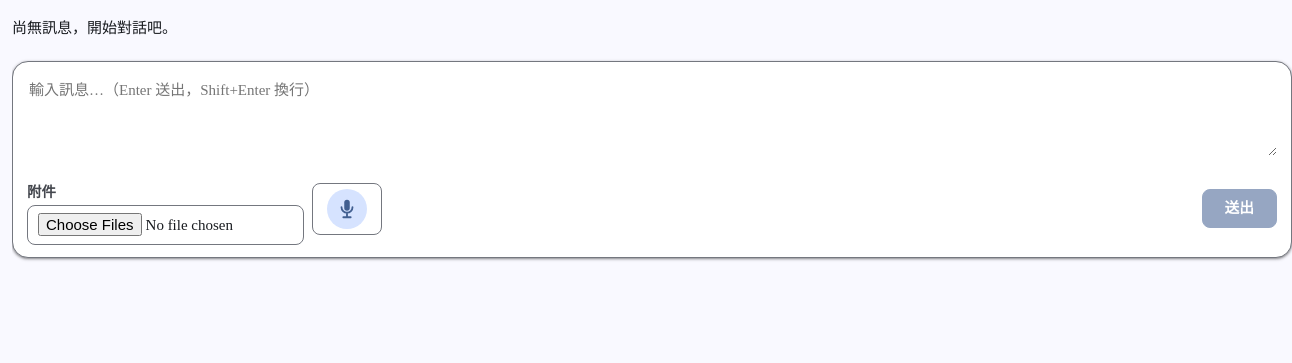
Test: MessageThread (E03-S009) › shows a failed message with a retry action when sending fails, and keeps the content visible
This screenshot has width=1292, height=363.
Expected: the text "尚無訊息，開始對話吧。" is shown, [12,20,177,36]
Type "你好" into the text box labelled "訊息".
click(652, 115); type("你好")  # box [27,74,1277,156]
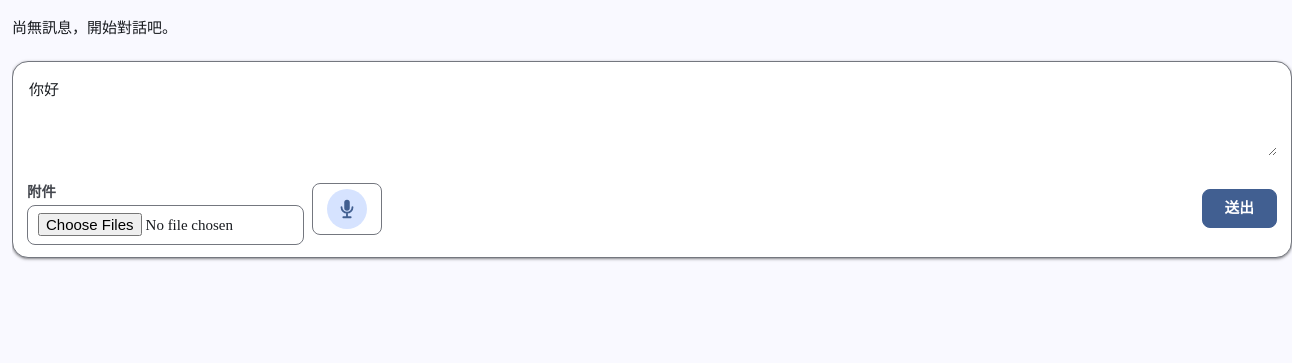
Click the button "送出".
click(1239, 209)  # box [1202,189,1277,228]
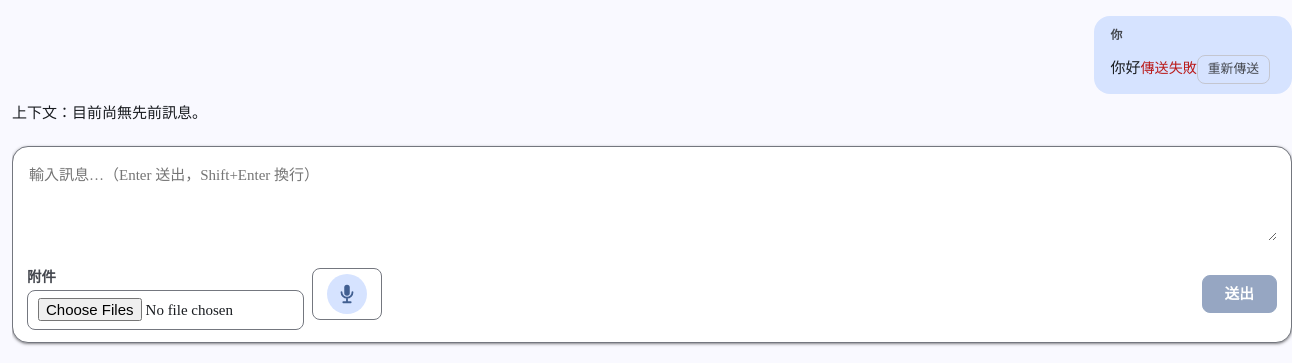
Now the text "傳送失敗" is shown, box [1140,60,1197,76]
Now the text "你好" is shown, box [1110,60,1140,76]
Now the button "重新傳送" is shown, box [1197,54,1270,84]
